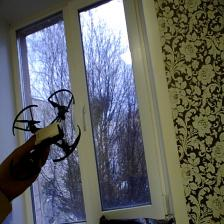drone: (10, 86, 84, 176)
